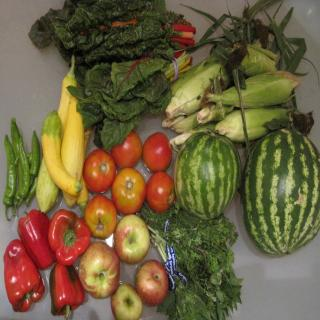tomato: (82, 150, 117, 196), (112, 168, 146, 212), (83, 196, 116, 238), (110, 129, 142, 168), (147, 170, 176, 212), (140, 131, 171, 169)
